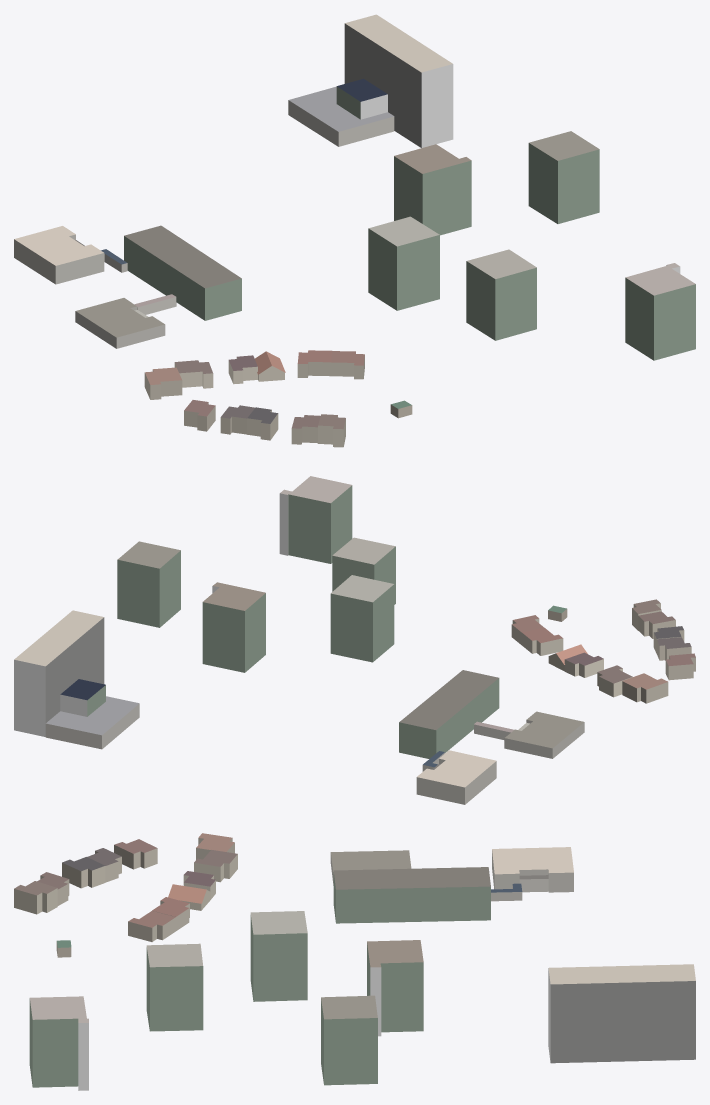
The picture shows the model from 3 angles, top to bottom: view 1: azimuth 30°, elevation 25°; view 2: azimuth 150°, elevation 25°; view 3: azimuth 270°, elevation 25°; orthographic projection. The views are drawn at different scales.
Visible parts, largest first — view 1: tuile; view 2: tuile; view 3: tuile.
Part boxes in pixels (x1,y1,x2,y2): tuile: (14, 14, 695, 447); tuile: (14, 476, 695, 804); tuile: (14, 833, 695, 1090).
Size of the model in its own units: 236 by 48.73 by 264.
